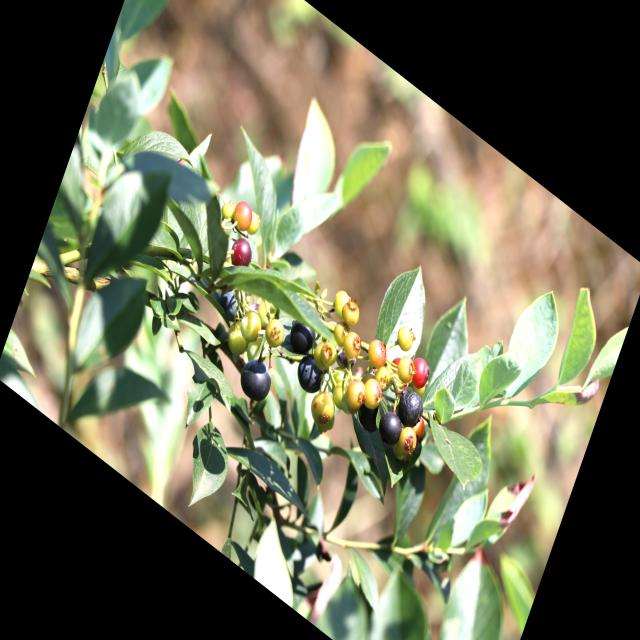blueberry: (235, 349, 277, 409), (216, 273, 256, 331), (286, 311, 320, 361), (294, 348, 328, 397), (375, 401, 406, 446), (396, 385, 426, 431), (354, 394, 384, 440), (330, 334, 361, 376)
blueberry-halfripe: (227, 232, 257, 276), (406, 352, 434, 394), (230, 197, 256, 234)
blueberry-unripe: (305, 382, 340, 434), (223, 315, 253, 360), (237, 305, 266, 347), (391, 346, 418, 387), (364, 333, 392, 372), (339, 328, 365, 368), (262, 313, 288, 353), (392, 320, 418, 358), (360, 373, 385, 412), (344, 373, 369, 412), (396, 422, 422, 458), (370, 359, 394, 395), (311, 338, 334, 374), (339, 295, 363, 329), (255, 297, 278, 331), (330, 377, 352, 411), (331, 285, 352, 319), (331, 316, 352, 349), (319, 338, 339, 367), (220, 195, 238, 223), (245, 210, 262, 239)
